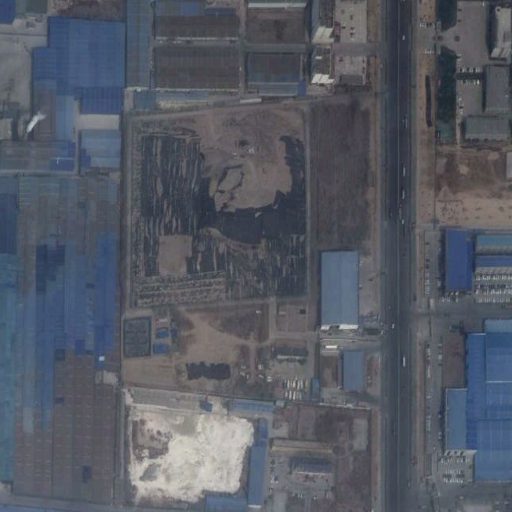lf: (127, 100, 307, 309)
